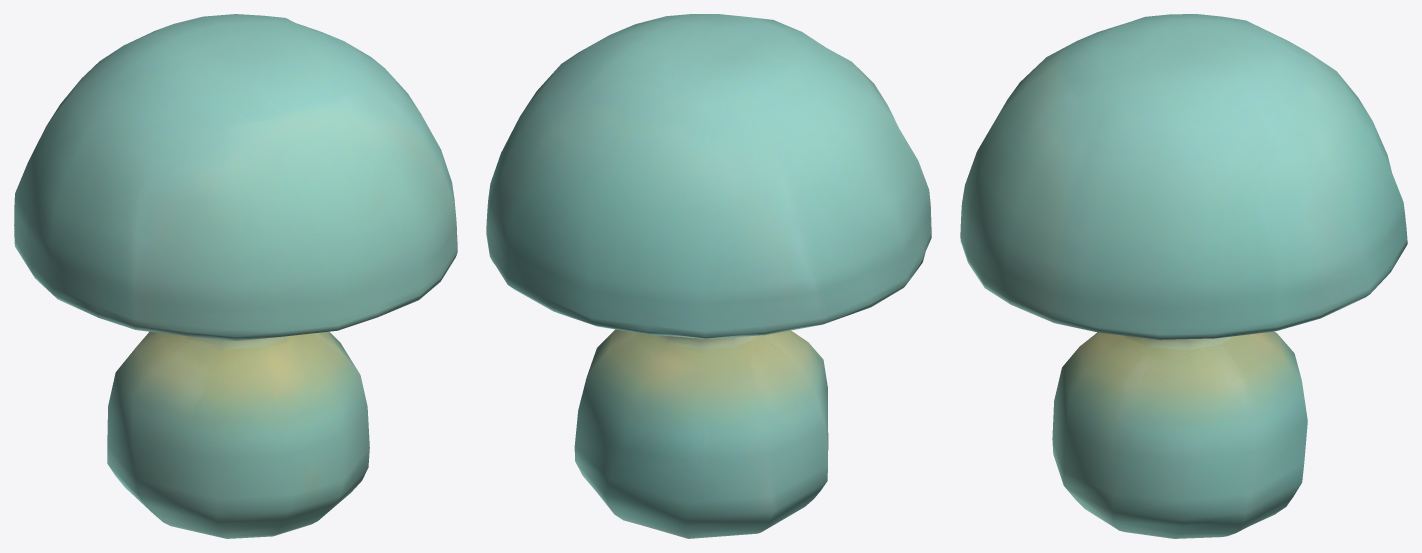
Rendered from lamp_table.glb.
The picture shows the model from 3 angles, left to right: view 1: azimuth 30°, elevation 25°; view 2: azimuth 150°, elevation 25°; view 3: azimuth 270°, elevation 25°; orthographic projection.
Size of the model in its own units: 1.75 by 2 by 1.77.
1 material, 1 textured.
